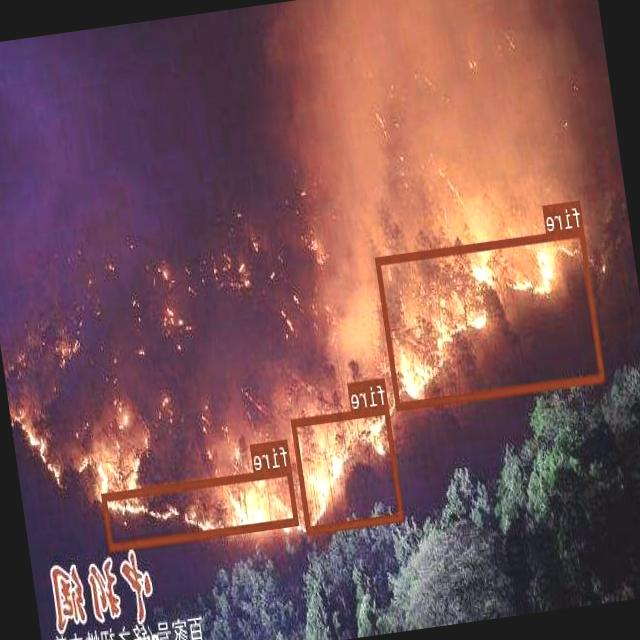fire: (377, 227, 606, 409), (103, 466, 300, 550), (292, 404, 405, 534)
